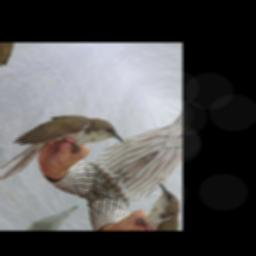Cuckoo: (0, 93, 128, 208)
